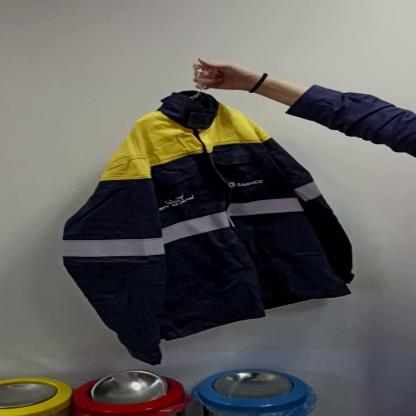C_eletrica: (60, 95, 362, 349)
